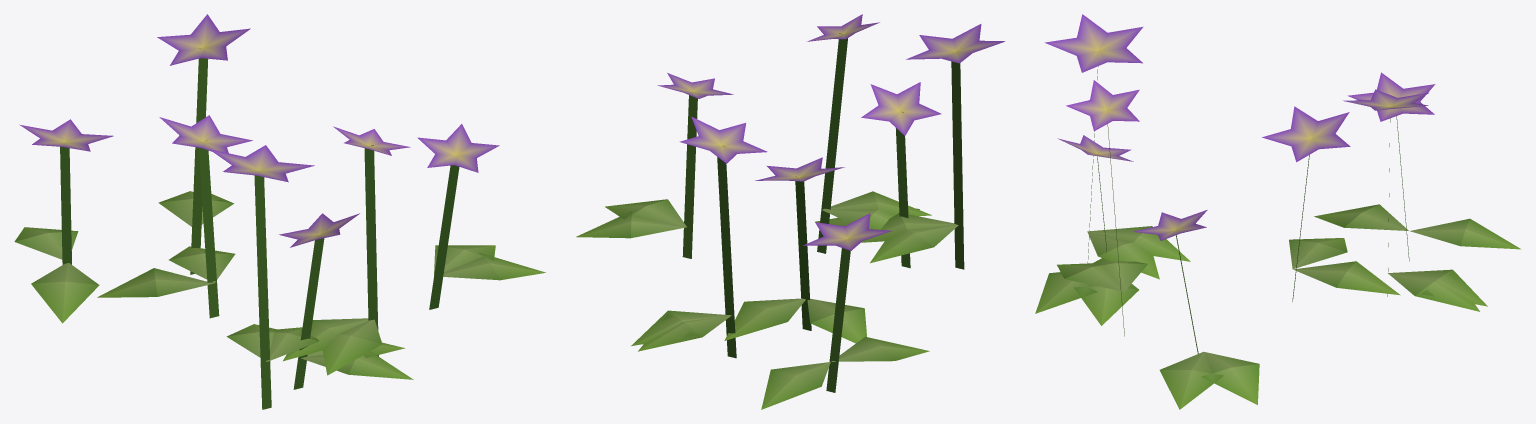
The model's file is flowers_purple.glb.
3 views of the same model, side by side, from view 1: azimuth 30°, elevation 25°; view 2: azimuth 150°, elevation 25°; view 3: azimuth 270°, elevation 25° (orthographic). The views are drawn at different scales.
Parts seen in each view (by area): view 1: flowers_purple_leaf; view 2: flowers_purple_leaf; view 3: flowers_purple_leaf.
Boxes of the visible parts, bbox=[...] form: flowers_purple_leaf: bbox=[14, 14, 545, 409]; flowers_purple_leaf: bbox=[576, 14, 1005, 409]; flowers_purple_leaf: bbox=[1035, 14, 1520, 409].
Size of the model in its own units: 0.6951 by 0.401 by 0.7359.
